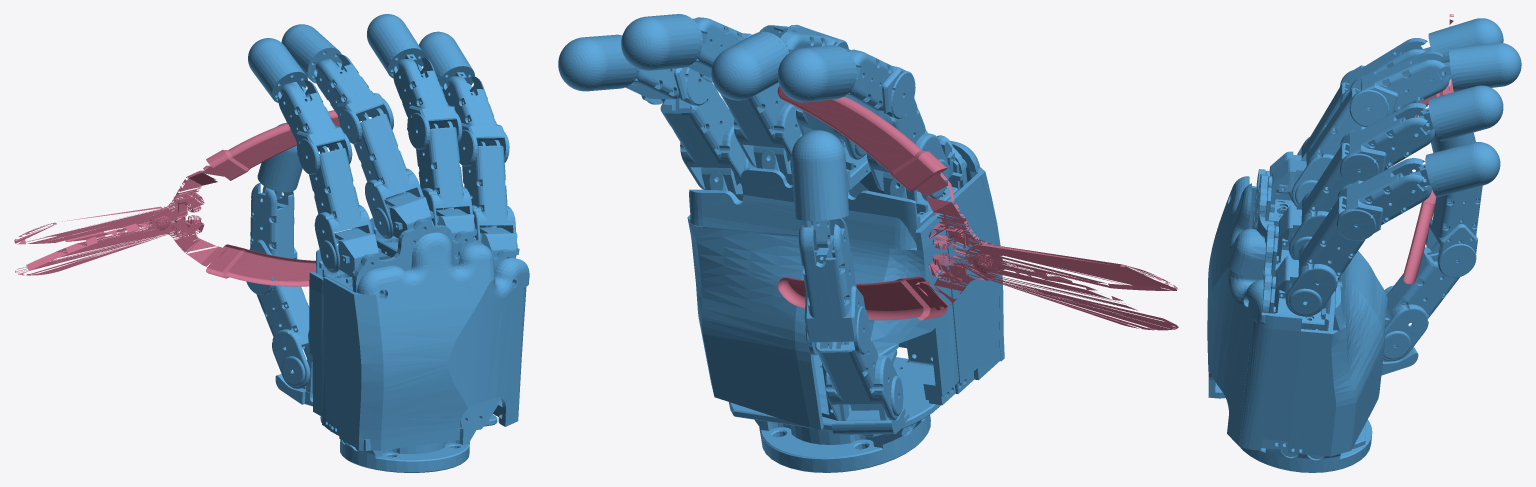
3 views of the same model, side by side, from view 1: azimuth 30°, elevation 25°; view 2: azimuth 150°, elevation 25°; view 3: azimuth 270°, elevation 25° (orthographic). The views are drawn at different scales.
Visible parts, largest first — view 1: 0; view 2: 0; view 3: 0.
Boxes of the visible parts, x1,y1,x2,y2 form: 0: [14, 14, 529, 472]; 0: [558, 14, 1178, 472]; 0: [1207, 14, 1521, 472].
Size of the model in its own units: 0.2547 by 0.1996 by 0.1426.
